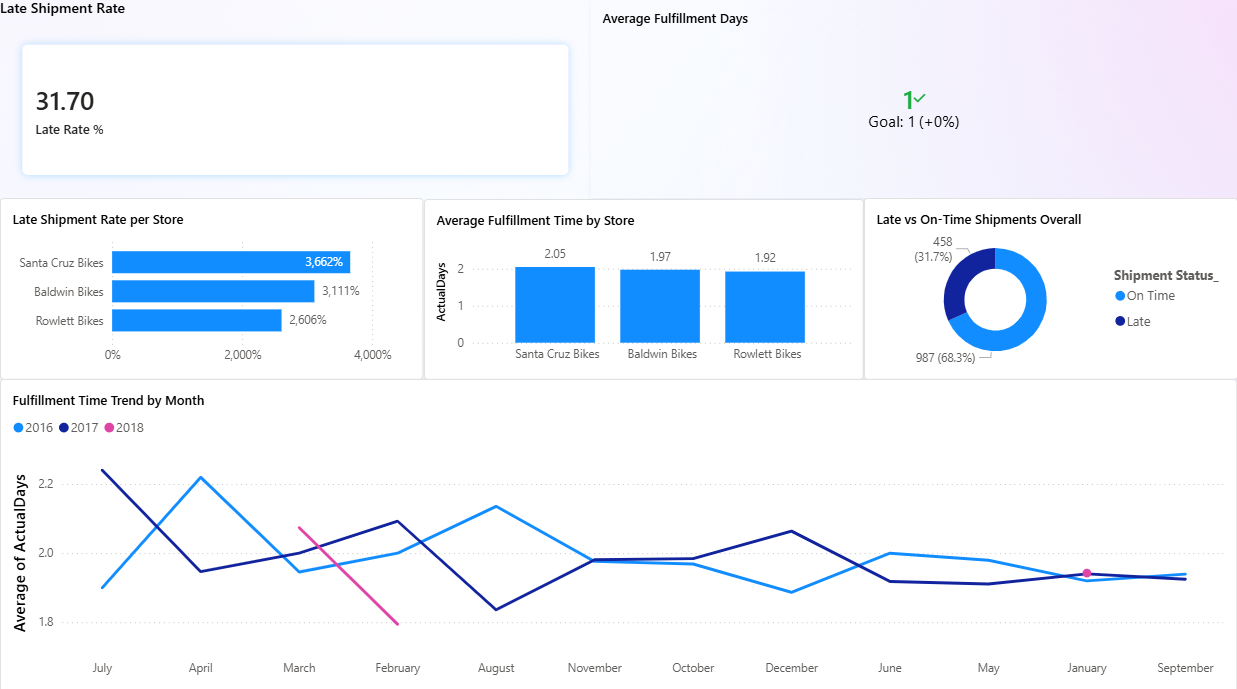

This screenshot's page, from the dashboard's own definition file:
{"tool":"powerbi","page":{"name":"Shipping & Logistics","canvas":[1280,720],"ordinal":1},"visuals":[{"type":"cardVisual","title":"Late Shipment Rate","fields":{"Data":["Fact_Shipping.Late Rate %"]},"box":[0,0,611.4,206.6],"z":0},{"type":"kpi","title":" Average Fulfillment Days","fields":{"Goal":["Count(Fact_Shipping.ActualDays)"],"Indicator":["Count(Fact_Shipping.ActualDays)"],"TrendLine":["Fact_Shipping.ActualDays"]},"box":[611.4,0,668.6,206.6],"z":1000},{"type":"barChart","title":"Late Shipment Rate per Store","fields":{"Category":["Dim_Geography.Store_Name"],"Y":["Fact_Shipping.Late Rate %"]},"box":[0,206.7,438.3,188.3],"z":1001},{"type":"columnChart","title":"Average Fulfillment Time by Store","fields":{"Category":["Dim_Geography.Store_Name"],"Y":["Avg(Fact_Shipping.ActualDays)"]},"box":[438.3,208.3,455,186.7],"z":1002},{"type":"donutChart","title":" Late vs On-Time Shipments Overall","fields":{"Category":["Fact_Shipping.Shipment Status_"],"Y":["Fact_Shipping.Total Shipments"]},"box":[893.3,206.7,386.7,188.3],"z":1003},{"type":"lineChart","title":"Fulfillment Time Trend by Month","fields":{"Category":["Dim_Date.MonthName"],"Y":["Avg(Fact_Shipping.ActualDays)"],"Series":["Dim_Date.Year"]},"box":[0,394.4,1280,325.7],"z":1004}]}

Visuals, with their boxes in screenshot pixels (x1, y1, x2, y2), scaled from the page's 1280x720 canvas onto the 1237x689 screenshot:
"Late Shipment Rate" cardVisual: 0, 0, 591, 198
" Average Fulfillment Days" kpi: 591, 0, 1236, 198
"Late Shipment Rate per Store" barChart: 0, 198, 424, 378
"Average Fulfillment Time by Store" columnChart: 424, 199, 863, 378
" Late vs On-Time Shipments Overall" donutChart: 863, 198, 1236, 378
"Fulfillment Time Trend by Month" lineChart: 0, 377, 1236, 688
